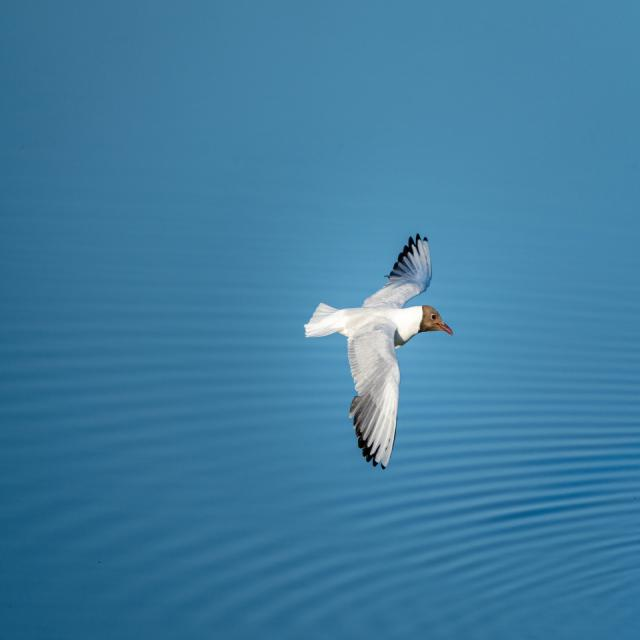birds: (302, 227, 460, 473)
